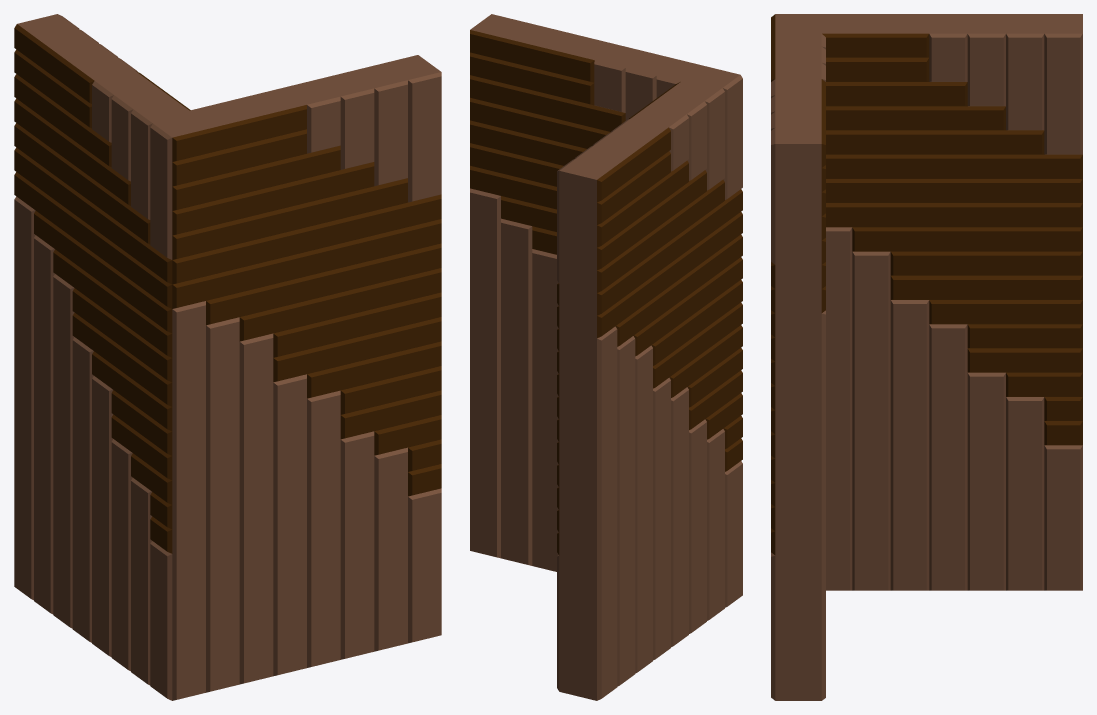
The model's file is WoodenBoardCorner.glb.
3 views of the same model, side by side, from view 1: azimuth 30°, elevation 25°; view 2: azimuth 150°, elevation 25°; view 3: azimuth 270°, elevation 25° (orthographic). The views are drawn at different scales.
Visible parts, largest first — view 1: wall_modernBoard_corner; view 2: wall_modernBoard_corner; view 3: wall_modernBoard_corner.
Boxes of the visible parts, bbox=[...] form: wall_modernBoard_corner: bbox=[14, 14, 441, 700]; wall_modernBoard_corner: bbox=[470, 14, 742, 700]; wall_modernBoard_corner: bbox=[771, 14, 1082, 700].
Size of what is drawn, in the model's own units: 2.03 by 4 by 2.03.
Materials: 1 (1 with a texture image).
